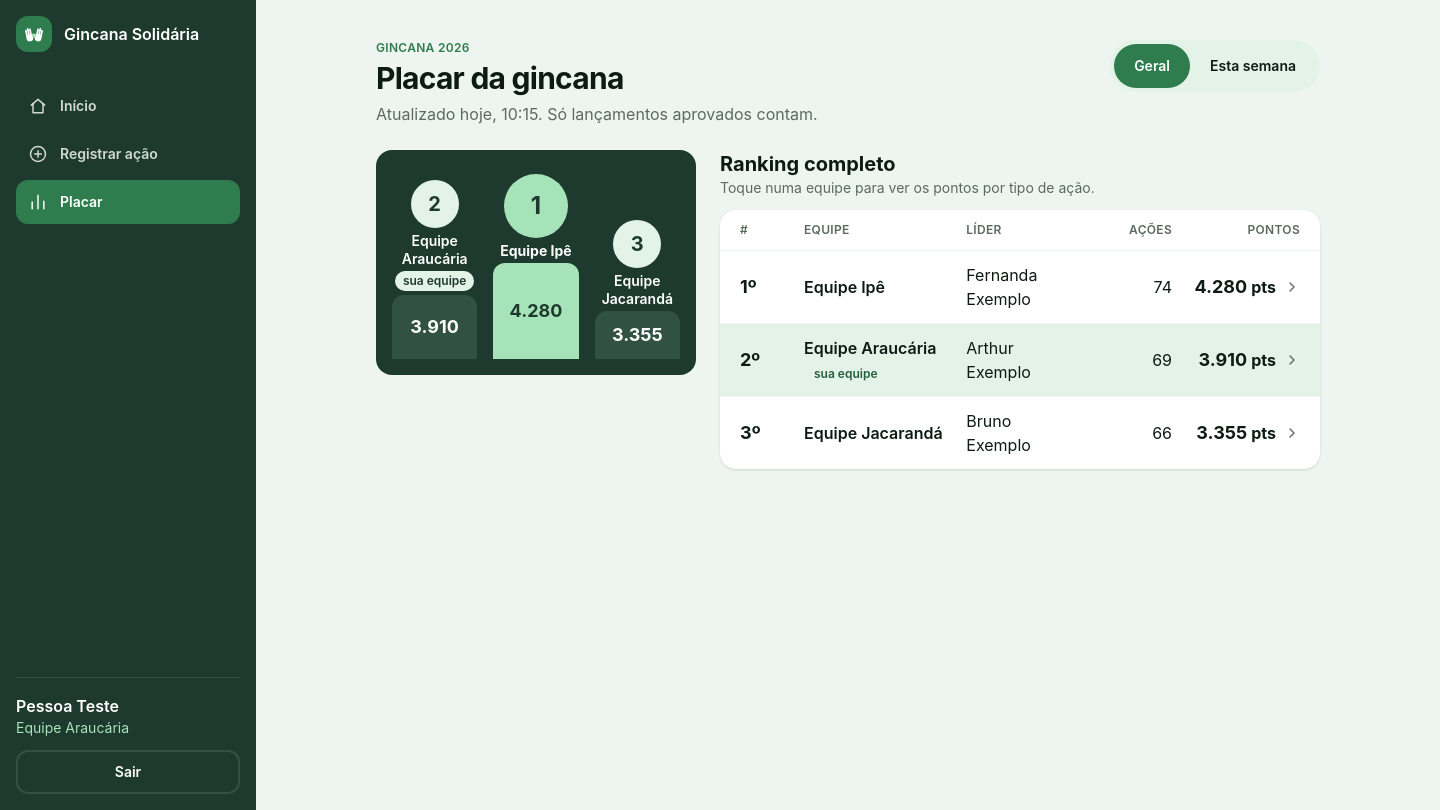
Scenario: Placar da gincana (US11) › filtro de período › começa no geral, sem mandar data nenhuma, e "Esta semana" refaz a consulta com a janela da semana
Expected: the list item "1º Equipe Ipê 4.280 pts" is shown, [720,250,1320,324]
Expected: the radio button labelled "Geral" is checked, [1114,44,1190,88]
Click the radio button labelled "Esta semana": (1253, 66) [1210,57,1296,74]
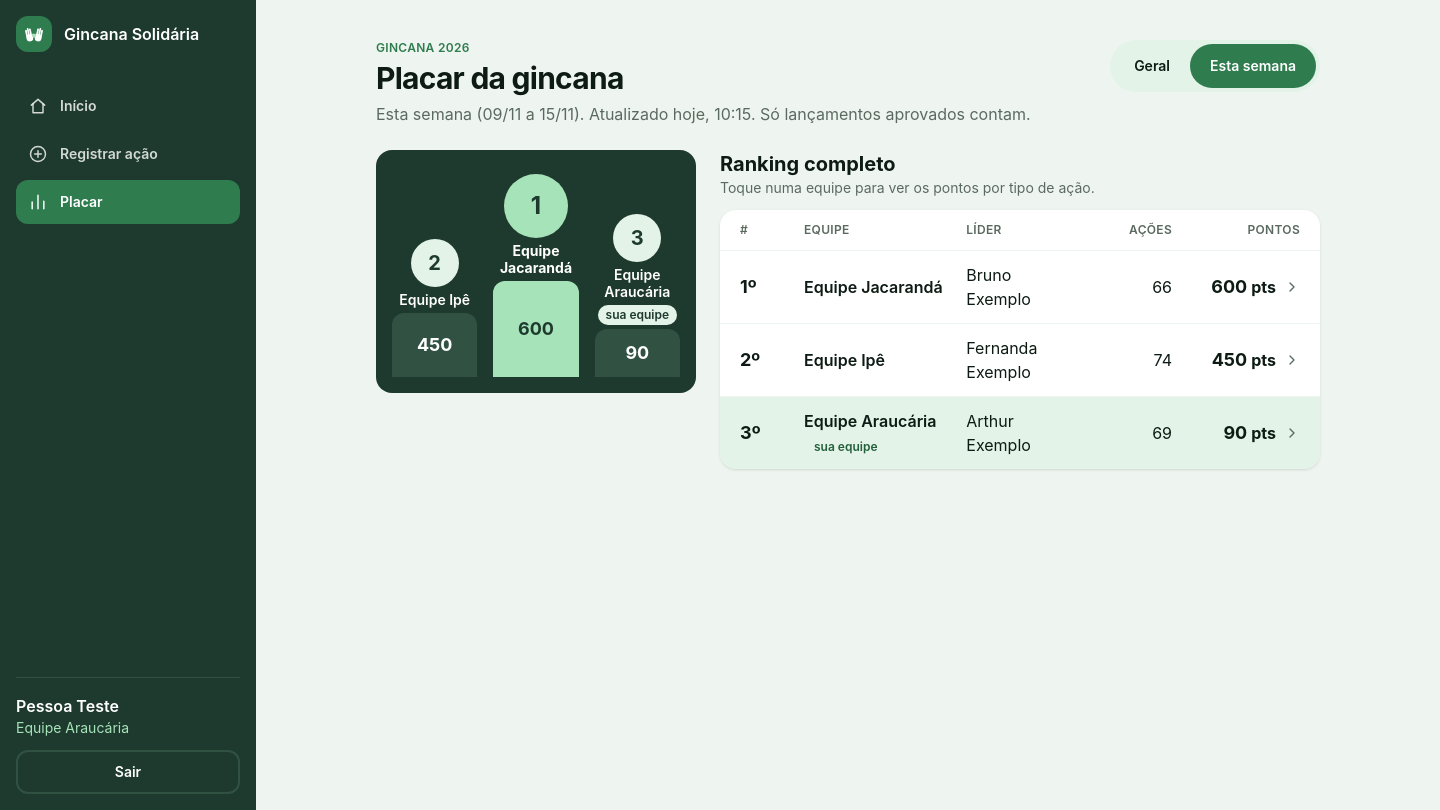
Expected: the radio button labelled "Esta semana" is checked, [1190,44,1316,88]
Expected: the list item "1º Equipe Jacarandá 600 pts" is shown, [720,250,1320,324]
Expected: the text "Esta semana (09/11 a 15/11). Atualizado hoje, 10:15." is shown, [376,104,1031,124]
